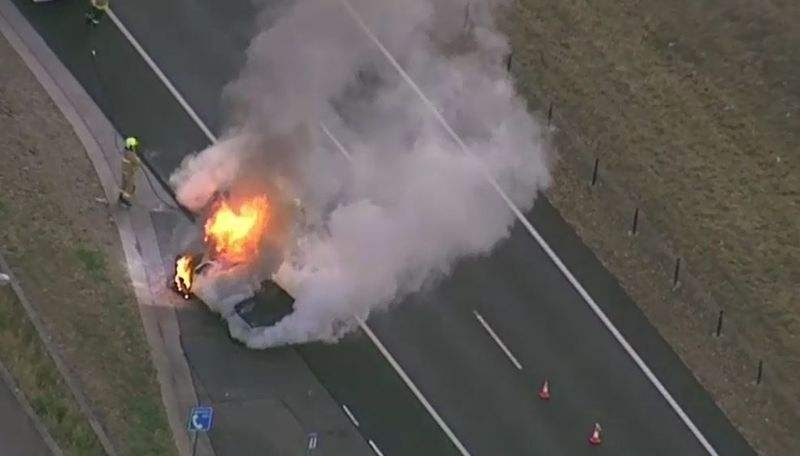fire: (192, 192, 271, 267), (173, 250, 195, 292)
